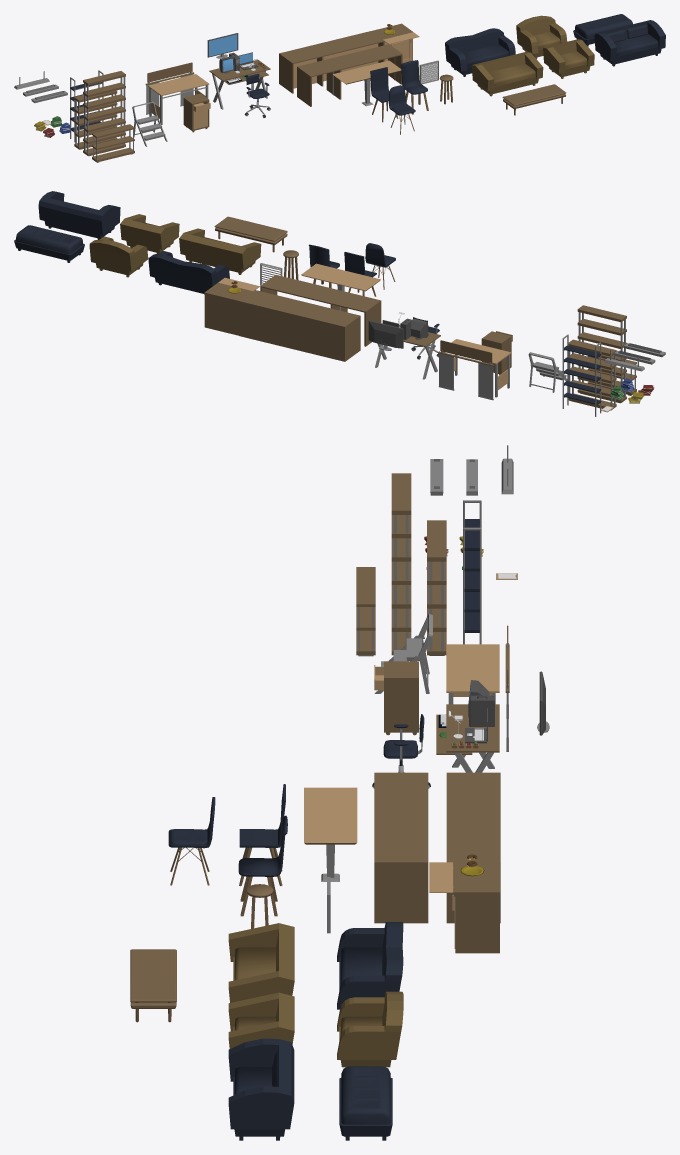
Rendered from MODELS.fbx.
The picture shows the model from 3 angles, top to bottom: view 1: azimuth 30°, elevation 25°; view 2: azimuth 150°, elevation 25°; view 3: azimuth 270°, elevation 25°; orthographic projection. The views are drawn at different scales.
Visible parts, largest first — view 1: Sofa 3, Modern Shelves 3, Sofa 2, Sofa 1, Sofa 2 Alt, Sofa 1 Alt, Counter 3 B, Counter 2 B, Desk 2, Modern Shelves, Desk Separator, Modern Shelves 2 (+21 smaller); view 2: Sofa 3, Counter 2 B, Sofa 2, Sofa 1, Modern Shelves 3, Counter 2 A, Counter 2 C, Desk Separator, Sofa 4, Counter 1, Sofa 1 Alt, Sofa 2 Alt (+17 smaller); view 3: Sofa 3, Counter 3 C, Sofa 2, Sofa 1, Sofa 1 Alt, Counter 1, Sofa 4, Modern Shelves 3, Table, Sofa 2 Alt, Coffee Table, Desk 2 (+14 smaller).
Part boxes in pixels (x1=…): Sofa 3: x1=594, y1=20, x2=665, y2=66; Modern Shelves 3: x1=83, y1=71, x2=125, y2=156; Sofa 2: x1=471, y1=51, x2=543, y2=96; Sofa 1: x1=445, y1=28, x2=515, y2=76; Sofa 2 Alt: x1=543, y1=39, x2=594, y2=78; Sofa 1 Alt: x1=516, y1=15, x2=567, y2=59; Counter 3 B: x1=297, y1=59, x2=341, y2=106; Counter 2 B: x1=279, y1=46, x2=323, y2=93; Desk 2: x1=148, y1=74, x2=209, y2=125; Modern Shelves: x1=74, y1=90, x2=117, y2=149; Desk Separator: x1=145, y1=62, x2=194, y2=114; Modern Shelves 2: x1=92, y1=124, x2=134, y2=162; Sofa 3: x1=38, y1=191, x2=120, y2=239; Counter 2 B: x1=310, y1=307, x2=360, y2=361; Sofa 2: x1=179, y1=228, x2=261, y2=274; Sofa 1: x1=148, y1=251, x2=229, y2=293; Modern Shelves 3: x1=577, y1=305, x2=626, y2=403; Counter 2 A: x1=274, y1=298, x2=324, y2=353; Counter 2 C: x1=239, y1=290, x2=289, y2=344; Desk Separator: x1=438, y1=340, x2=494, y2=400; Sofa 4: x1=14, y1=225, x2=84, y2=262; Counter 1: x1=204, y1=283, x2=252, y2=335; Sofa 1 Alt: x1=89, y1=236, x2=148, y2=277; Sofa 2 Alt: x1=120, y1=214, x2=179, y2=253; Sofa 3: x1=228, y1=1038, x2=294, y2=1140; Counter 3 C: x1=374, y1=832, x2=428, y2=923; Sofa 2: x1=228, y1=923, x2=294, y2=1002; Sofa 1: x1=337, y1=922, x2=403, y2=1009; Sofa 1 Alt: x1=337, y1=991, x2=403, y2=1067; Counter 1: x1=453, y1=862, x2=500, y2=953; Sofa 4: x1=339, y1=1066, x2=392, y2=1140; Modern Shelves 3: x1=391, y1=473, x2=411, y2=655; Table: x1=304, y1=787, x2=357, y2=881; Sofa 2 Alt: x1=228, y1=992, x2=294, y2=1048; Coffee Table: x1=130, y1=949, x2=176, y2=1022; Desk 2: x1=446, y1=644, x2=499, y2=704.
Bounding box in the file's own units: 18.94 × 2.3 × 5.92.
